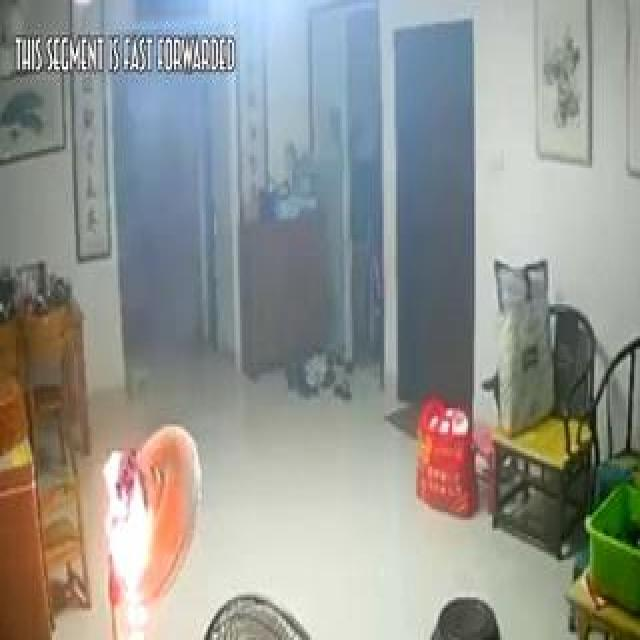Fire: (97, 363, 203, 632)
